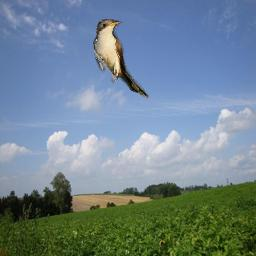Cuckoo: (93, 19, 149, 101)
